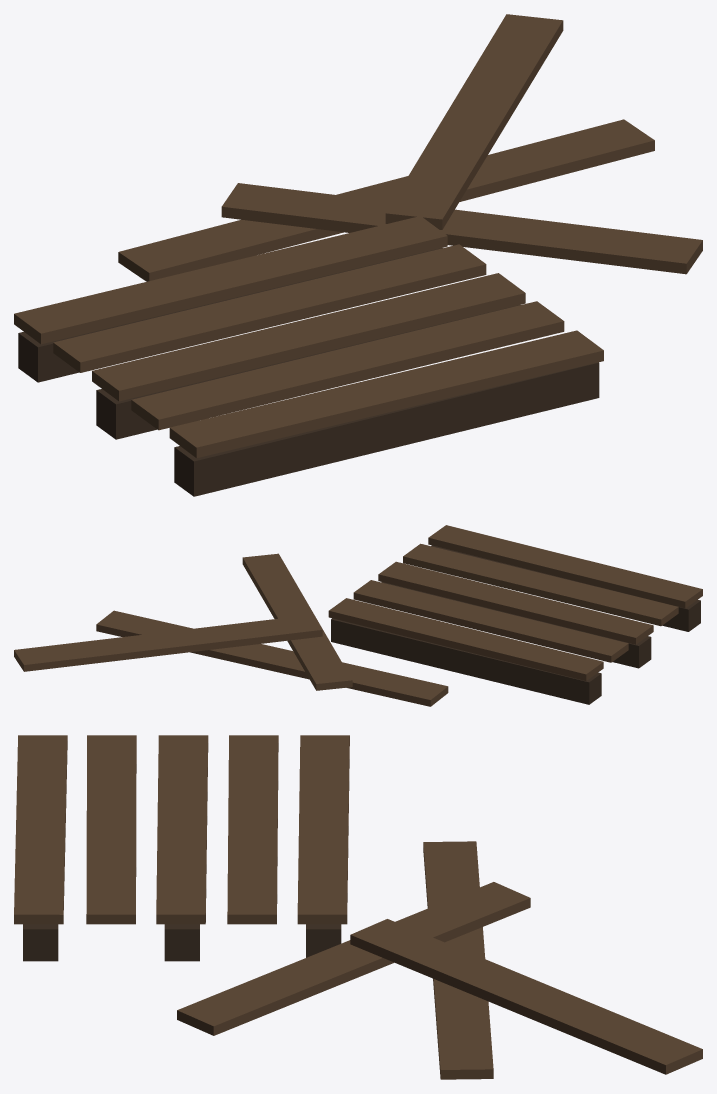
Rendered from Pallet_Planks.fbx.
The picture shows the model from 3 angles, top to bottom: view 1: azimuth 30°, elevation 25°; view 2: azimuth 150°, elevation 25°; view 3: azimuth 270°, elevation 25°; orthographic projection. The views are drawn at different scales.
Visible parts, largest first — view 1: Pallet_Planks; view 2: Pallet_Planks; view 3: Pallet_Planks.
Boxes of the visible parts, <box> form: Pallet_Planks: <box>14,14,702,496</box>; Pallet_Planks: <box>14,525,702,706</box>; Pallet_Planks: <box>14,735,702,1079</box>.
Bounding box in the file's own units: 2.14 × 0.145 × 1.95.
